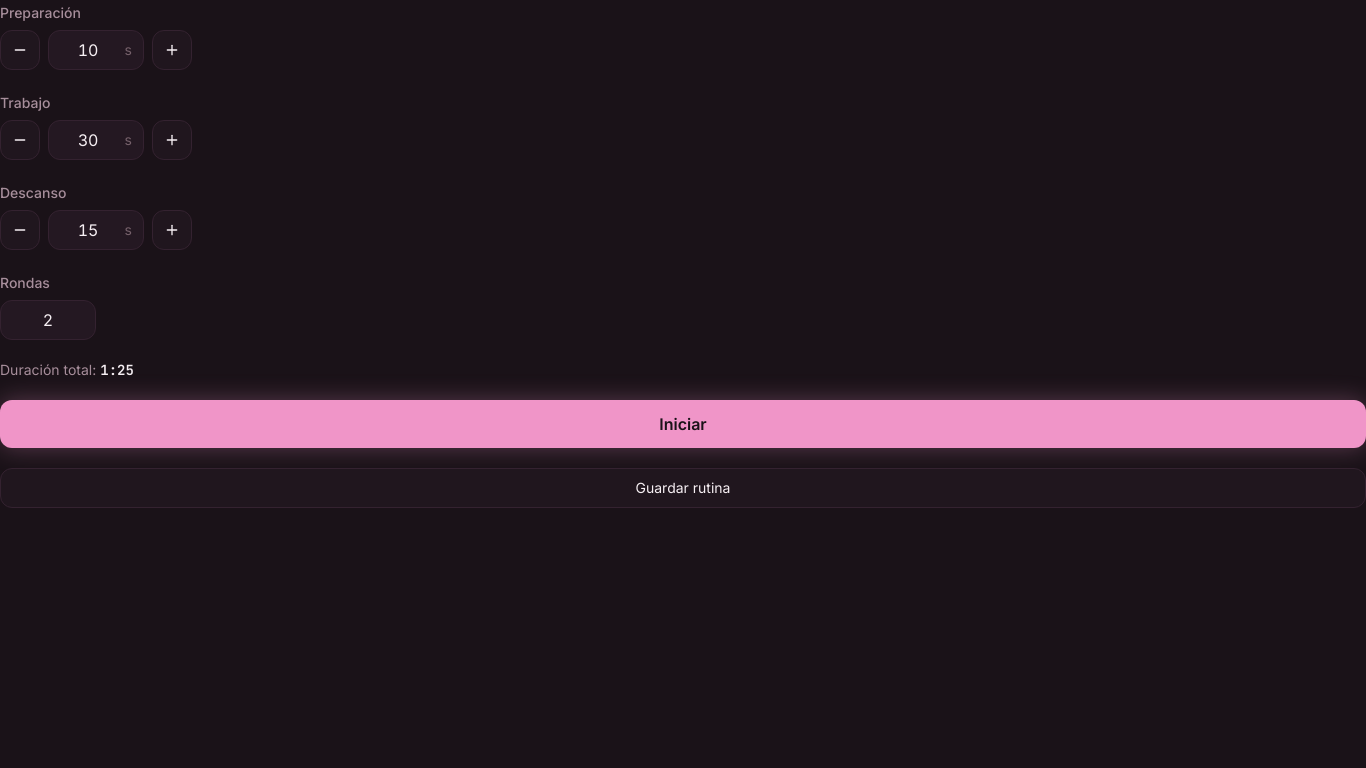
Test: ClasicoConfigScreen — Guardar rutina (spec routines) › nombre vacío: error en línea y ninguna rutina creada
Click the button "Guardar rutina" at [683, 488], box [0,468,1365,508]
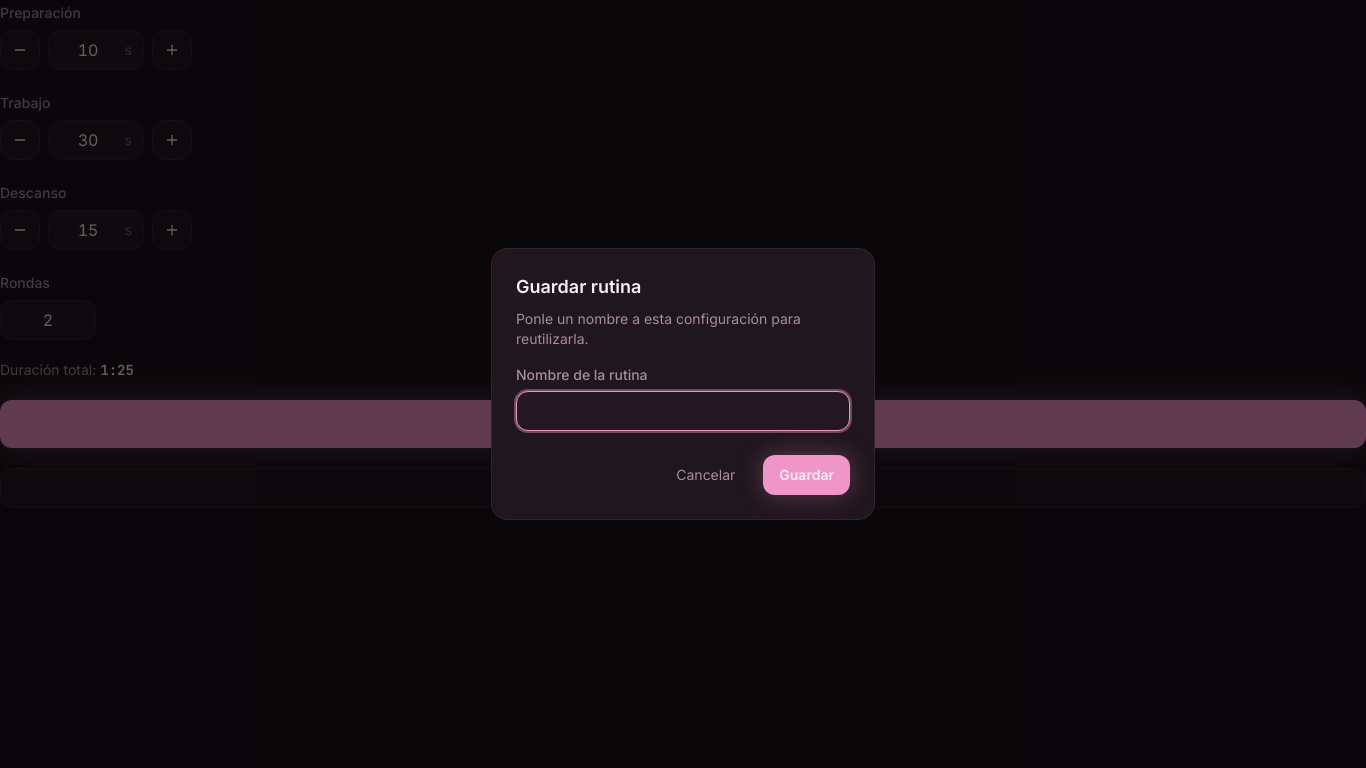
Click the button "Guardar" at [807, 475], box [763,455,850,495]
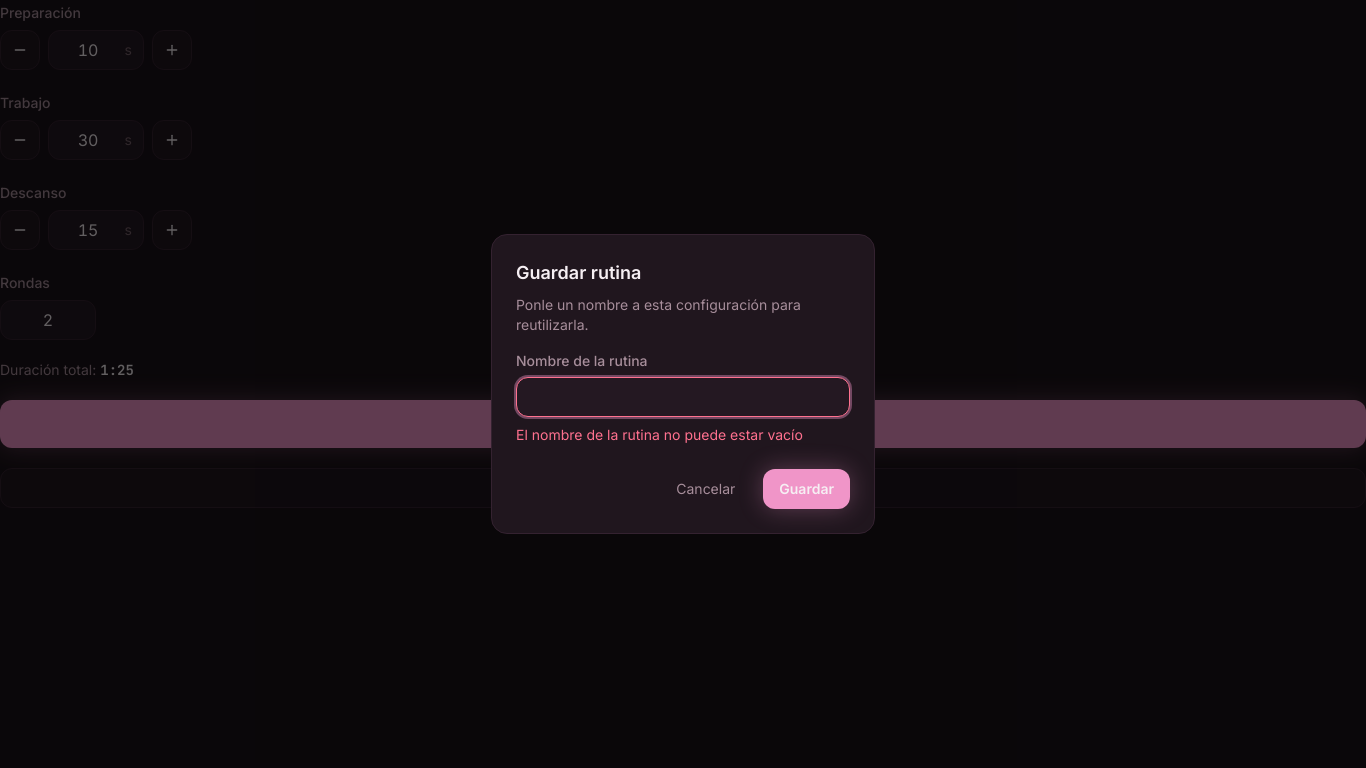
Now the text "El nombre de la rutina no puede estar vacío" is shown, box [516,425,850,445]
